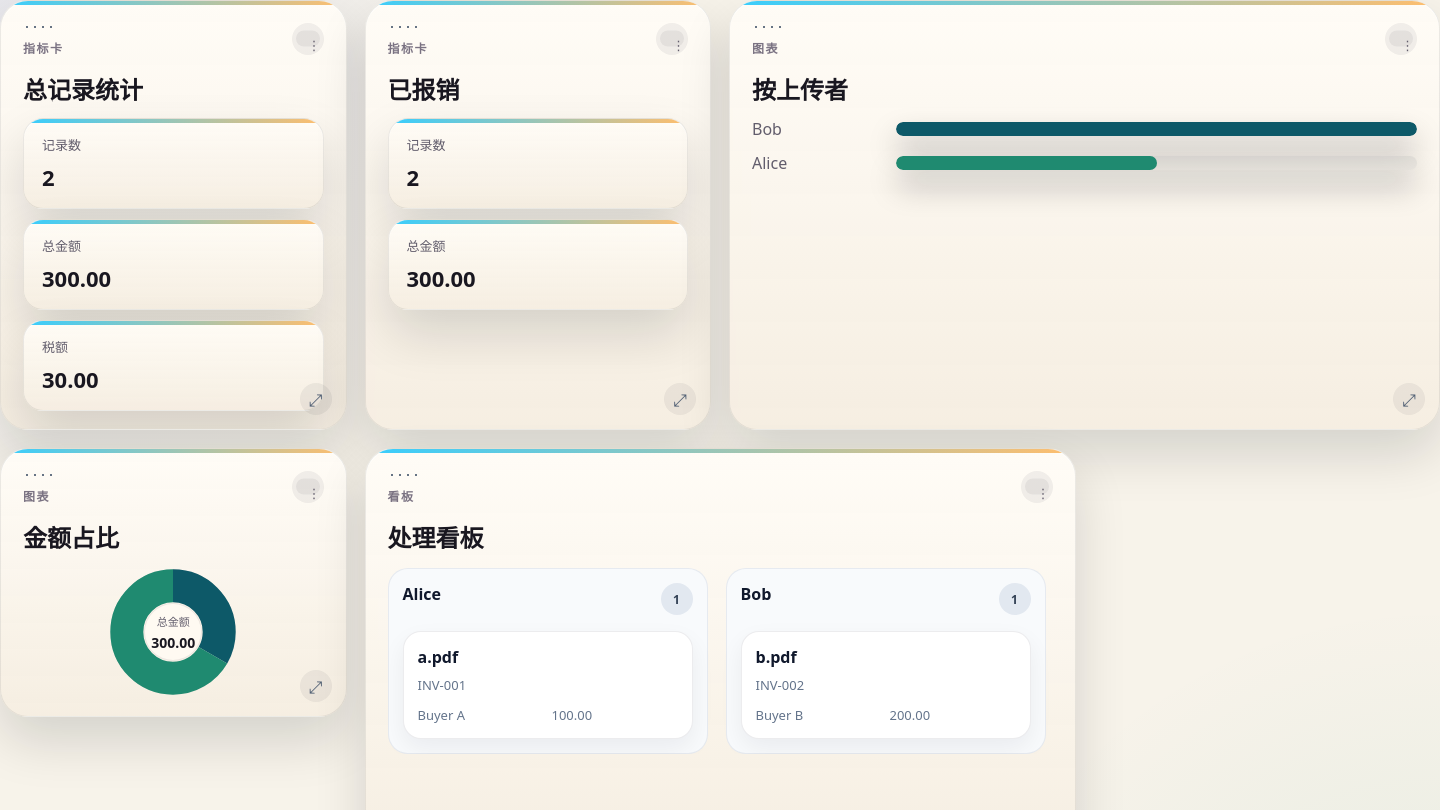
Test: WorkspaceDashboard › opens widget properties from the card action menu instead of inline editors
The width and height of the screenshot is (1440, 810).
Click the button named "仪表盘“已报销”操作". click: (672, 39)
box: [656,23,688,55]
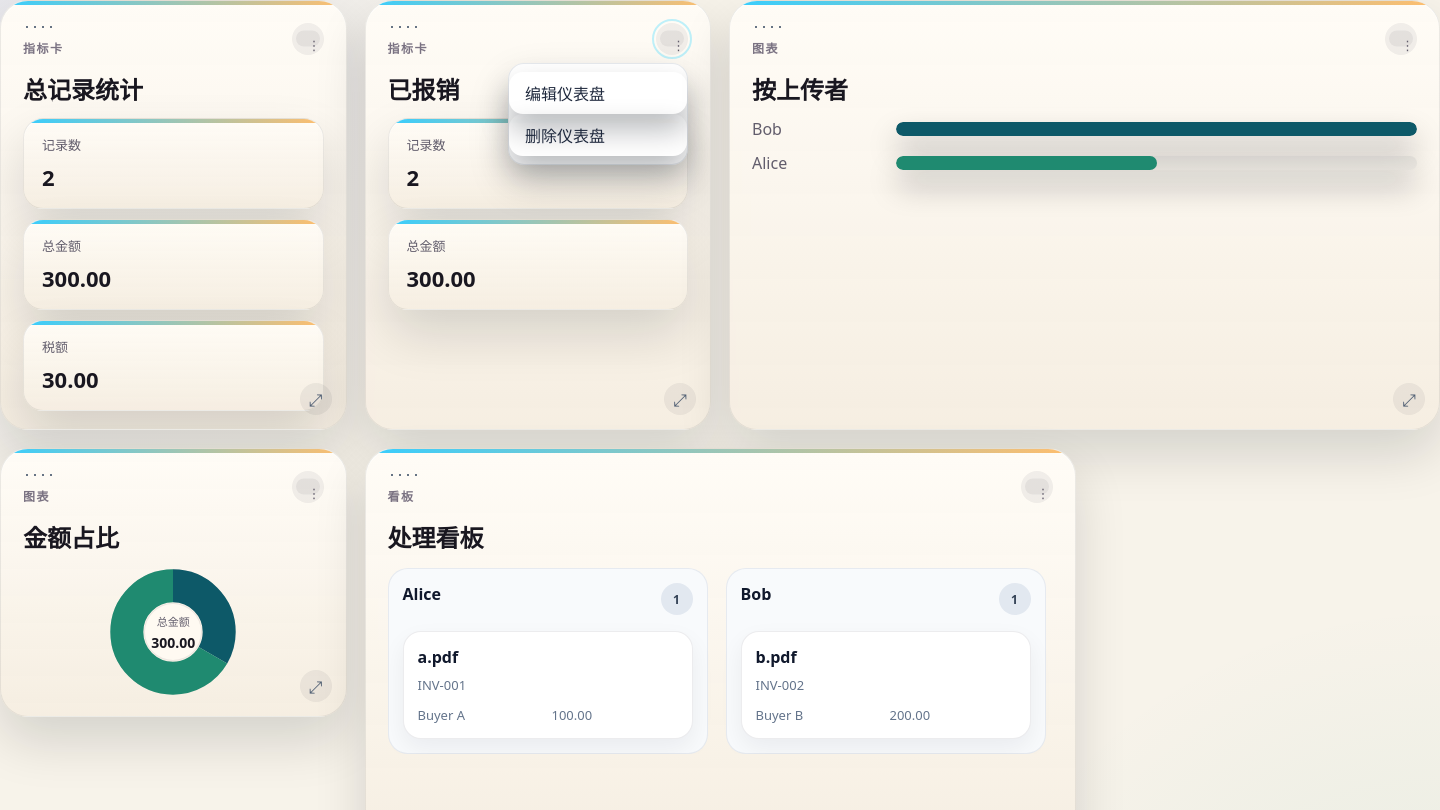
Expected: the menu item "编辑筛选条件" is not shown
Click the menu item "编辑仪表盘". click: (598, 93)
box: [509,72,687,114]
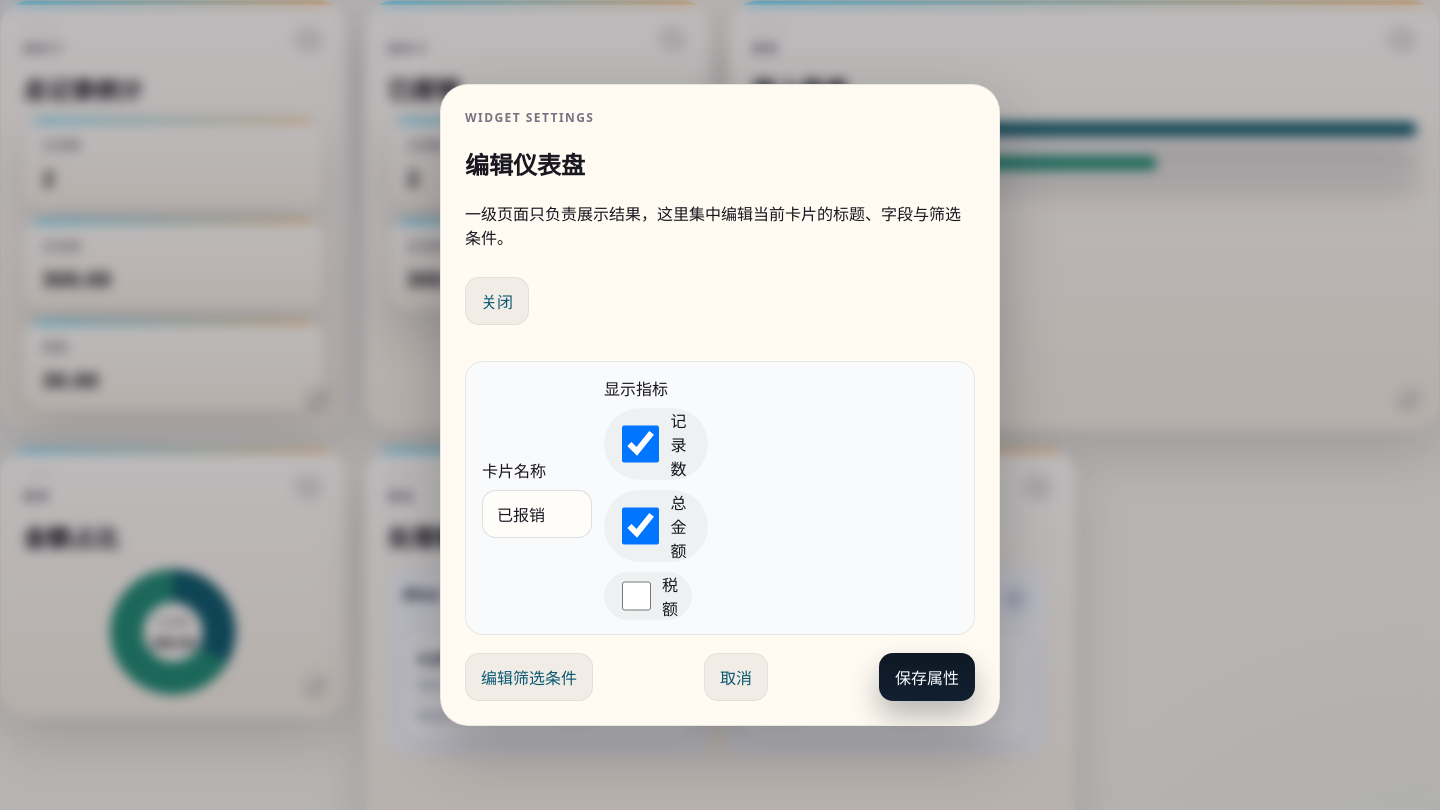
Expected: the dialog "编辑仪表盘" is shown, [440,84,1000,726]
Expected: the field labelled "卡片名称" holds "已报销", [482,490,592,538]
Expected: the text "卡片名称" is shown once, [482,460,546,482]
